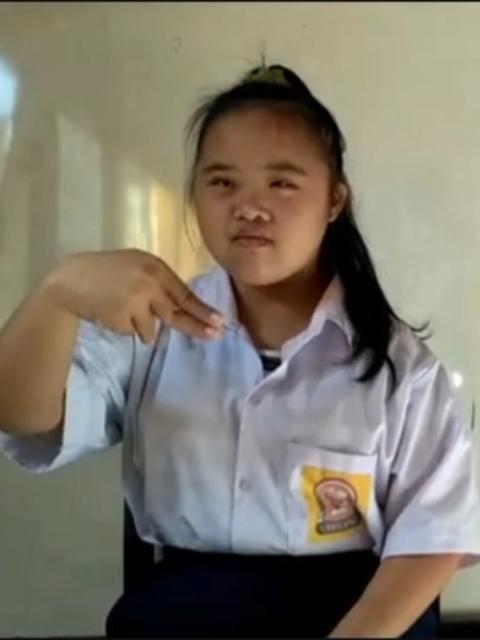H: (50, 246, 232, 358)
